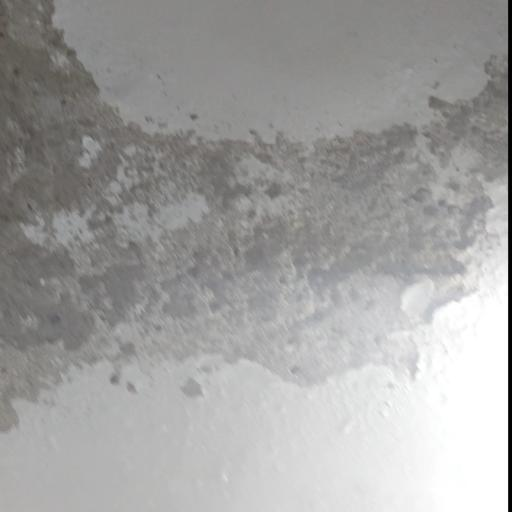peeling: (0, 0, 511, 418)
